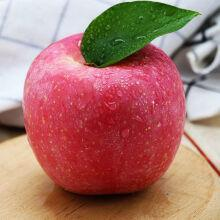apple: (20, 34, 184, 196)
